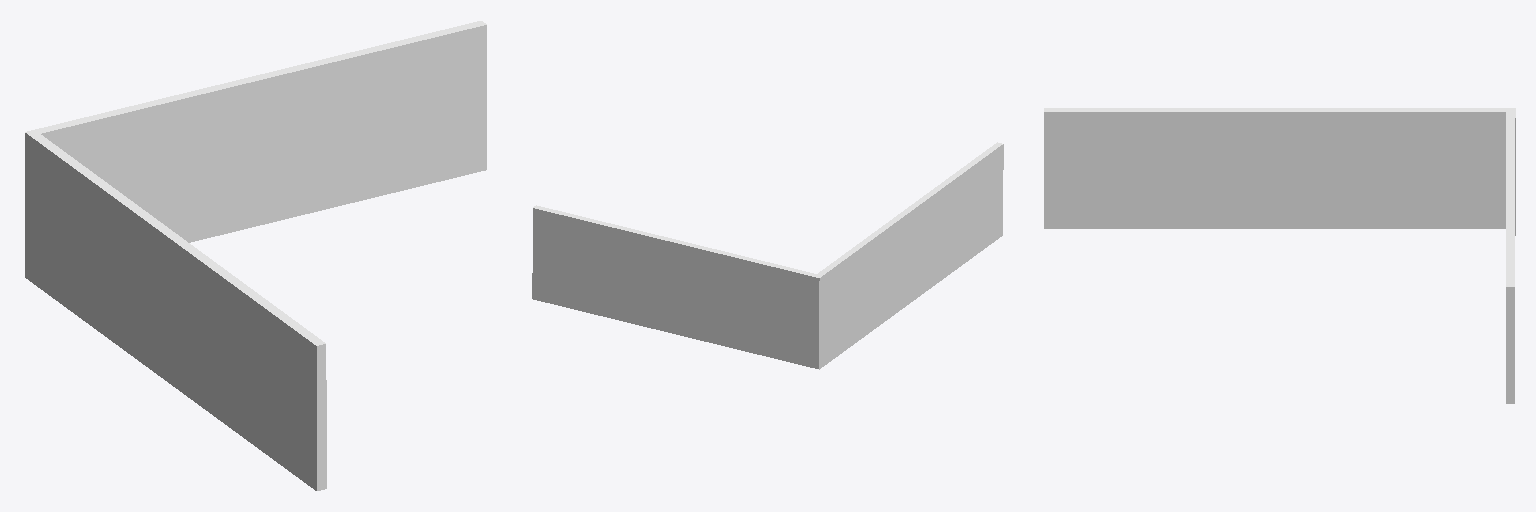
The robot description file, URDF, robot "walls":
<?xml version="1.0" encoding="utf-8"?>
<robot name="walls">
  <link name="base_link">
    <contact>
      <lateral_friction value="0.5"/>
      <rolling_friction value="0.0"/>
      <contact_cfm value="0.0"/>
      <contact_erp value="1.0"/>
    </contact>
    <inertial>
      <origin rpy="0 0 0" xyz="0 0 0"/>
      <mass value="0"/>
      <inertia ixx="0" ixy="0" ixz="0" iyy="0" iyz="0" izz="0"/>
    </inertial>
    <visual>
      <origin rpy="1.57 0 1.57" xyz="0 0 0"/>
      <geometry>
        <mesh filename="models/meshes/warehouse/wall.obj" scale="10 10 10"/>
      </geometry>
      <material name="tray_material">
        <color rgba="1 1 1 1"/>
      </material>
    </visual>
    <collision concave="yes">
      <origin rpy="1.57 0 1.57" xyz="0 0 0"/>
      <geometry>
        <mesh filename="models/meshes/warehouse/wall.obj" scale="10 10 10"/>
      </geometry>
    </collision>
  </link>
</robot>

--- Facts derived from the render (not from the file) ---
The picture shows the robot from 3 angles, left to right: view 1: azimuth 30°, elevation 25°; view 2: azimuth 150°, elevation 25°; view 3: azimuth 270°, elevation 25°; orthographic projection.
Model walls with 1 links and 0 joints (none), rooted at base_link, posed all joints at 0.
Visible links, largest first — view 1: base_link; view 2: base_link; view 3: base_link.
Boxes of the visible links, left/top/right/bottom form: base_link: left=25, top=21, right=486, bottom=490; base_link: left=532, top=142, right=1003, bottom=369; base_link: left=1044, top=108, right=1515, bottom=403.
Size in the robot's own frame: 4.61 by 5.1 by 1.4 metres.
1 mesh visuals loaded from 1 distinct referenced files (1 OBJ).